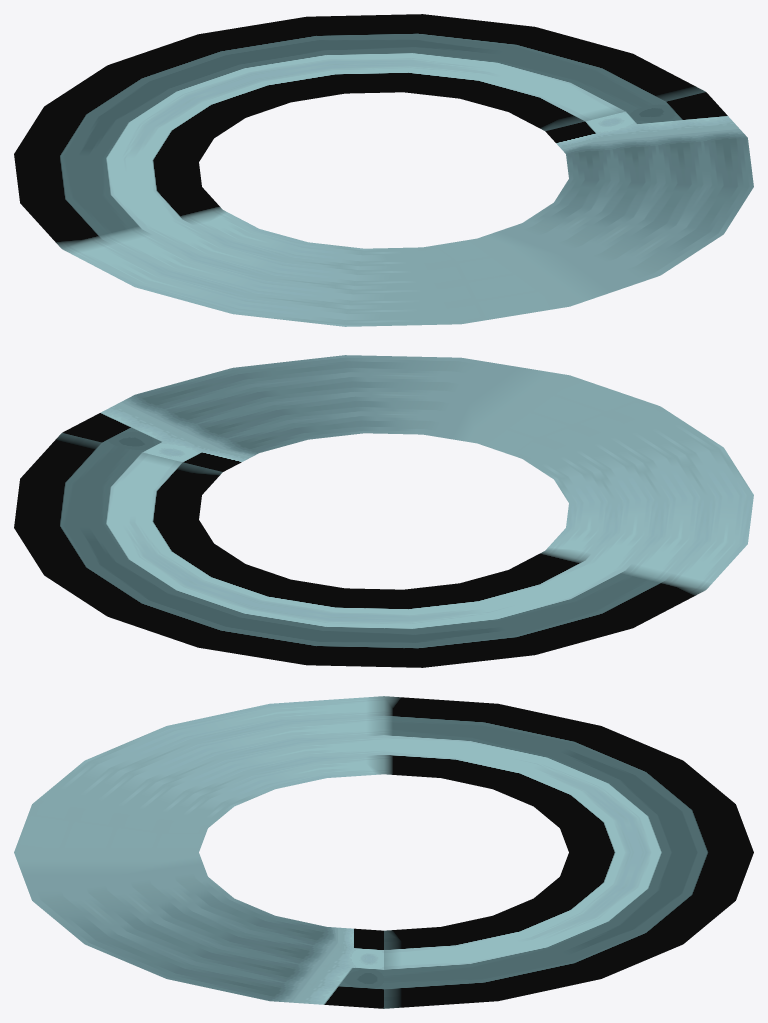
File: uranus.obj
3 renders of one model, top to bottom at view 1: azimuth 30°, elevation 25°; view 2: azimuth 150°, elevation 25°; view 3: azimuth 270°, elevation 25°, orthographic.
Parts seen in each view (by area): view 1: unknown; view 2: unknown; view 3: unknown.
Part boxes in pixels (x1=…): unknown: x1=14, y1=14, x2=753, y2=326; unknown: x1=14, y1=355, x2=753, y2=667; unknown: x1=14, y1=696, x2=753, y2=1008.
Size of the model in its own units: 3 by 0 by 3.
